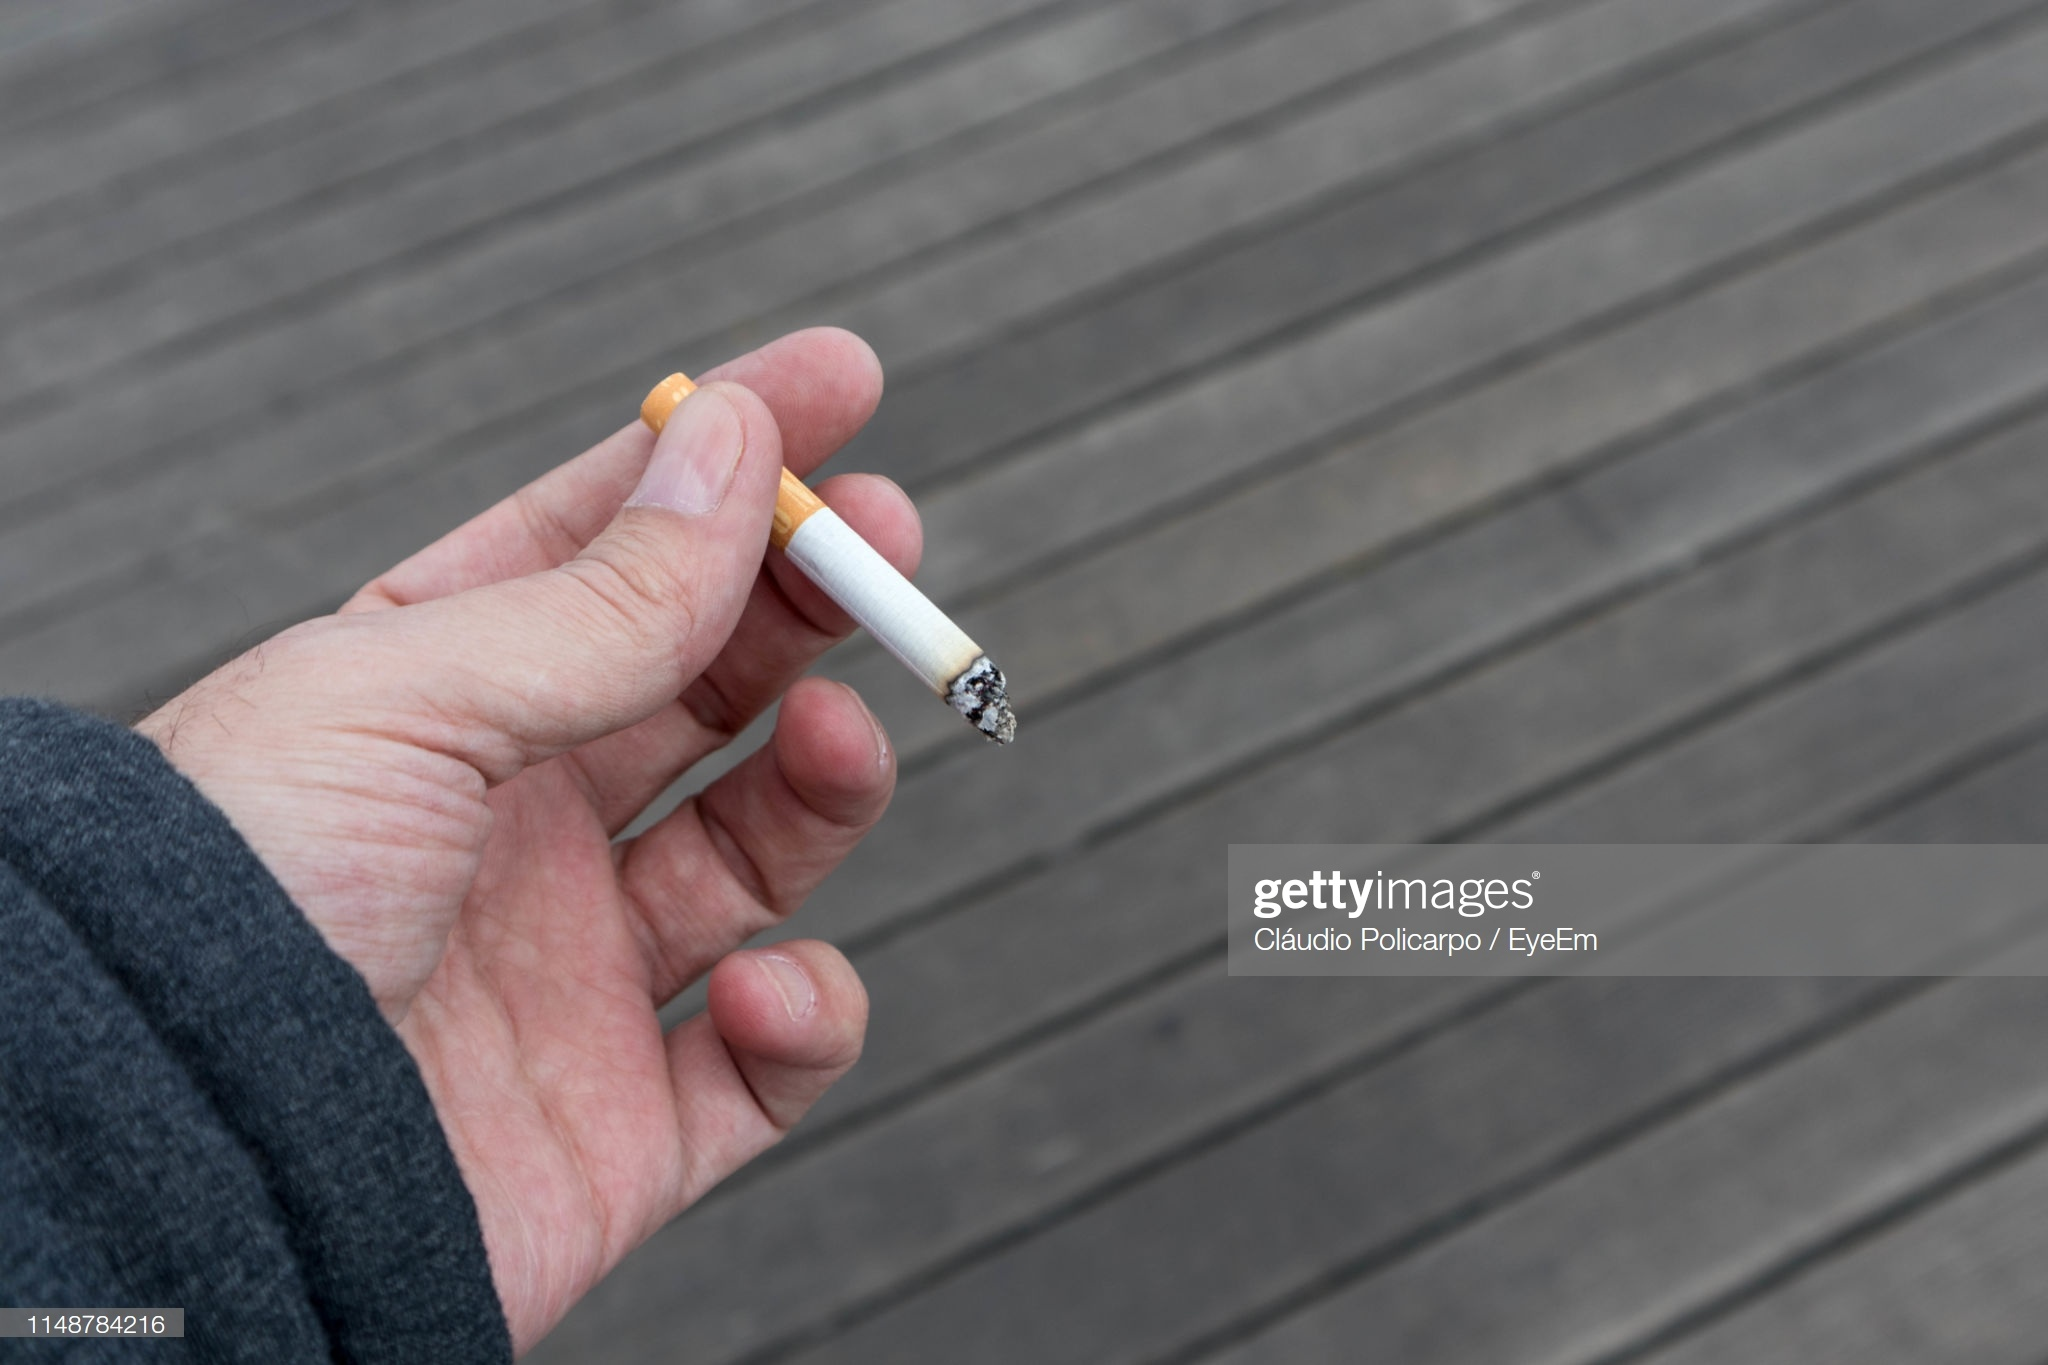sigaretta: (624, 369, 1032, 759)
